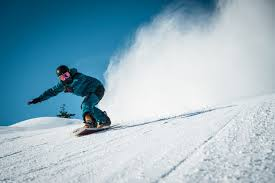snowboarder: (24, 62, 122, 139)
